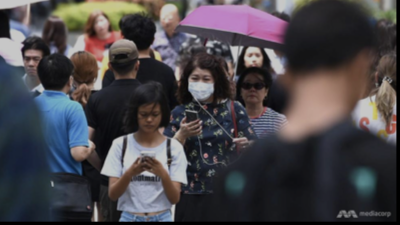with_mask: (186, 72, 215, 102)
without_mask: (240, 78, 266, 104), (137, 107, 161, 133), (22, 53, 42, 77), (244, 50, 265, 68), (93, 17, 109, 36)
